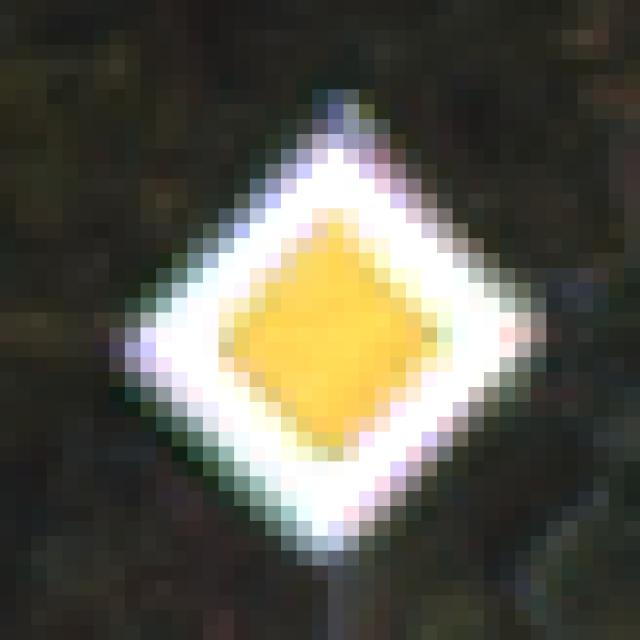Main Road: (79, 90, 563, 567)
